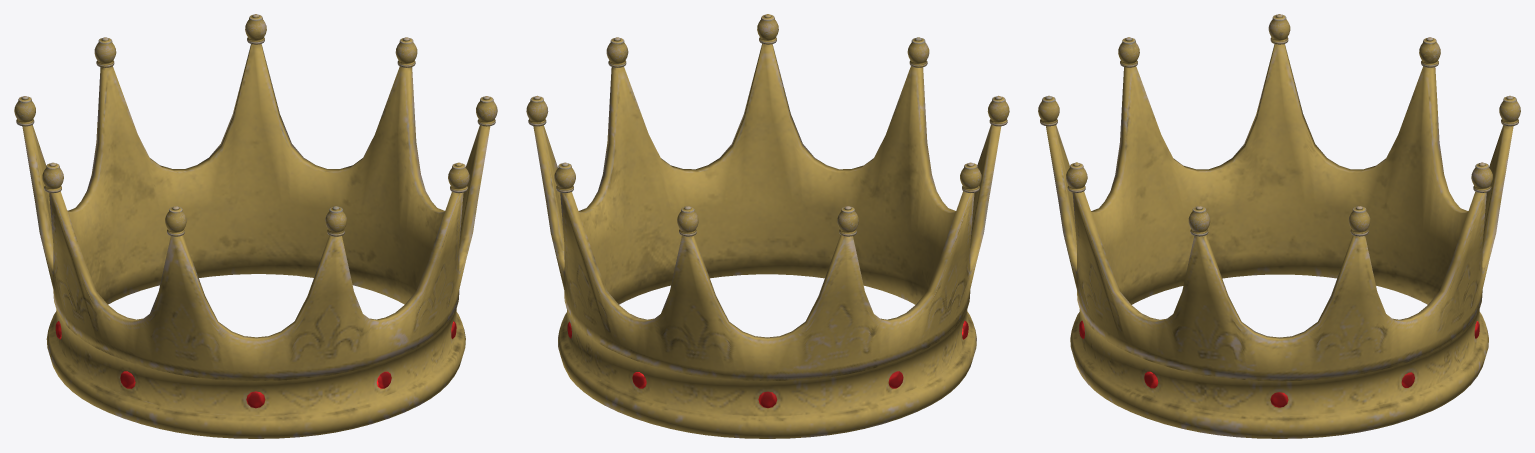
The model's file is golden_crown.glb.
3 renders of one model, left to right at view 1: azimuth 30°, elevation 25°; view 2: azimuth 150°, elevation 25°; view 3: azimuth 270°, elevation 25°, orthographic.
Visible parts, largest first — view 1: Object_2; view 2: Object_2; view 3: Object_2.
Part boxes in pixels (<box>): Object_2: <box>14,14,497,438</box>; Object_2: <box>526,14,1009,438</box>; Object_2: <box>1038,14,1520,438</box>.
Size of the model in its own units: 4.99 by 2.78 by 5.06.
Materials: 1 (1 with a texture image).
